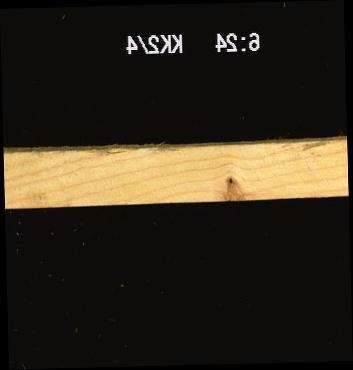small_knot: (226, 175, 234, 185)
split: (104, 147, 129, 155)
